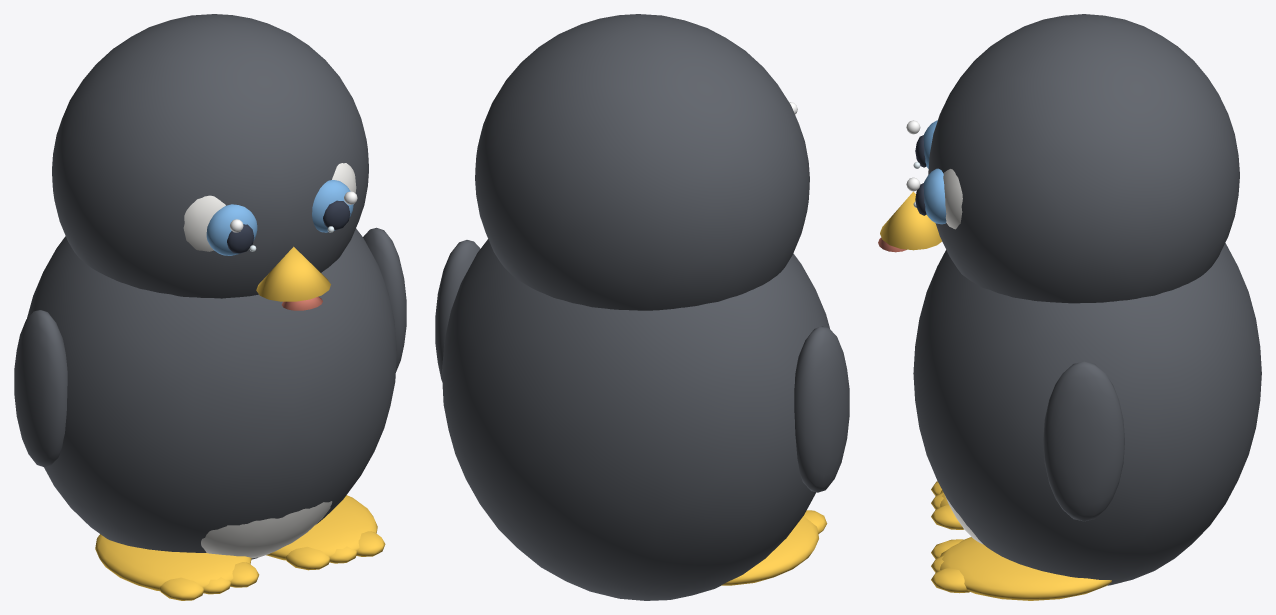
File: penguin.glb
3 renders of one model, left to right at view 1: azimuth 30°, elevation 25°; view 2: azimuth 150°, elevation 25°; view 3: azimuth 270°, elevation 25°, orthographic. The views are drawn at different scales.
Size of the model in its own units: 2.51 by 3.35 by 2.16.
